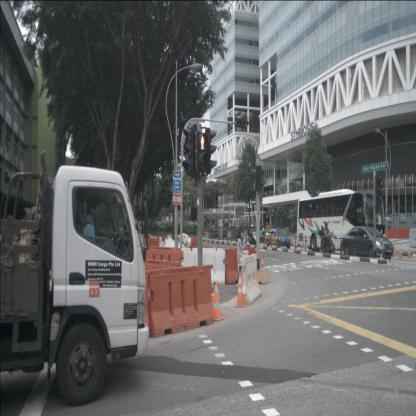barrier: (147, 265, 214, 337), (146, 247, 183, 297), (182, 246, 225, 286), (224, 248, 259, 285), (240, 252, 262, 306)
cone: (211, 282, 225, 322), (234, 272, 248, 307), (260, 256, 266, 279), (398, 244, 403, 260), (407, 245, 411, 259), (392, 244, 396, 256)
